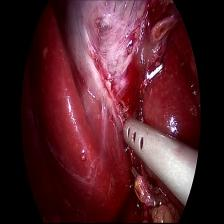Irrigator: (122, 114, 158, 168)
